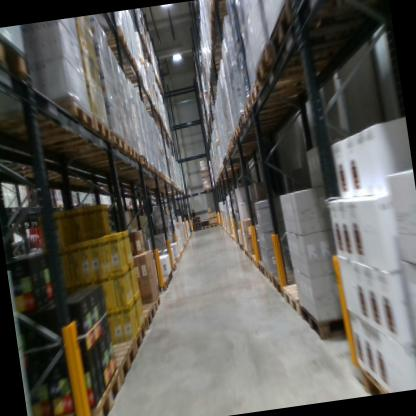pallet: (259, 0, 381, 64), (250, 31, 358, 84), (0, 92, 96, 151), (28, 368, 124, 416), (24, 115, 113, 164), (298, 293, 351, 347), (62, 131, 129, 171), (97, 337, 140, 389), (0, 26, 34, 90), (235, 99, 298, 130), (248, 72, 304, 105), (241, 92, 297, 120), (271, 266, 311, 302), (97, 139, 135, 169), (283, 280, 310, 321), (92, 23, 126, 53), (233, 117, 275, 140), (359, 364, 389, 395), (129, 301, 158, 332), (105, 146, 141, 167), (114, 154, 149, 175), (130, 322, 150, 354), (145, 296, 163, 314), (136, 88, 154, 104), (10, 215, 30, 229), (154, 276, 171, 292), (247, 248, 264, 264), (217, 164, 244, 174), (256, 258, 270, 277), (264, 264, 274, 287), (165, 269, 175, 284), (26, 217, 38, 229), (168, 261, 178, 271), (243, 246, 251, 258), (54, 201, 66, 208), (173, 253, 181, 263), (200, 224, 211, 231), (252, 256, 259, 267), (201, 185, 213, 191), (209, 221, 219, 228), (191, 226, 201, 232), (86, 199, 93, 207), (79, 202, 87, 208)
